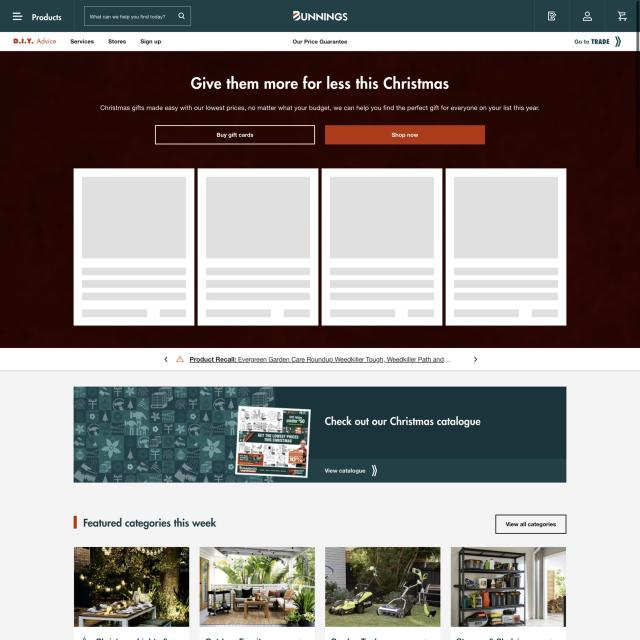input: (84, 6, 192, 26)
logo: (293, 10, 348, 22)
navigation: (10, 36, 167, 46), (11, 11, 25, 25)
